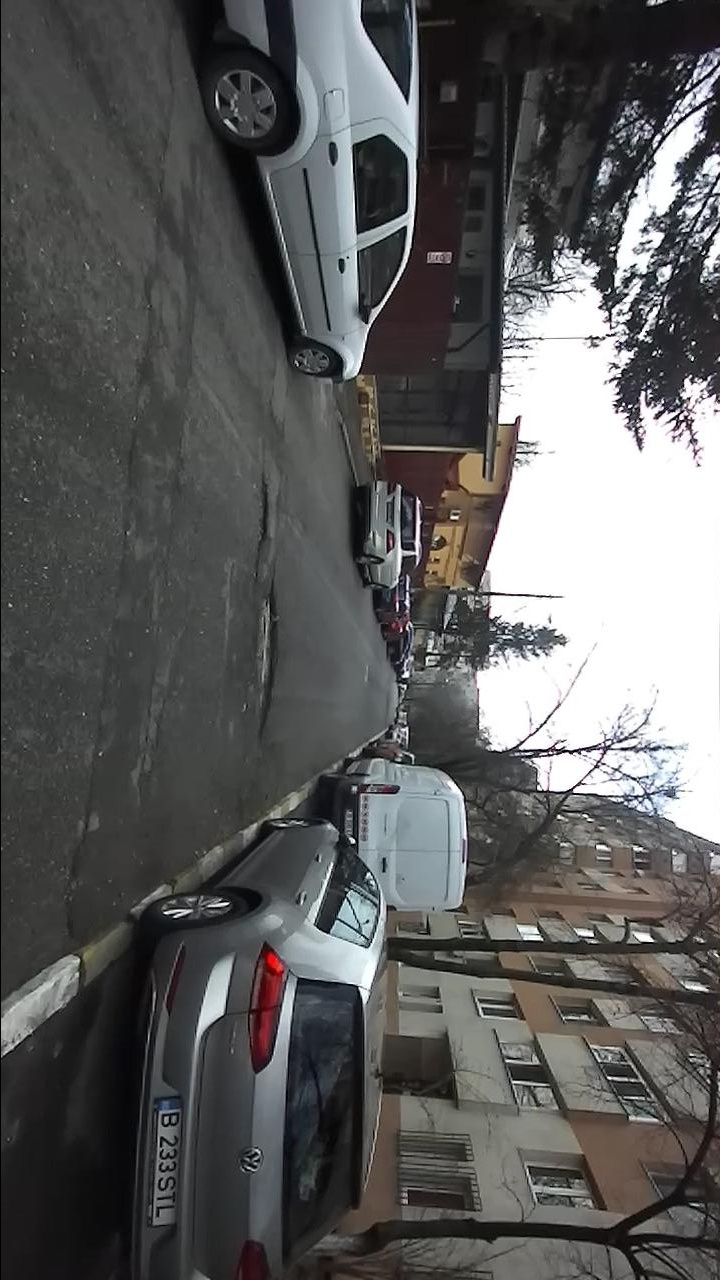pothole: (59, 797, 99, 938), (250, 579, 284, 744), (255, 471, 270, 548)
